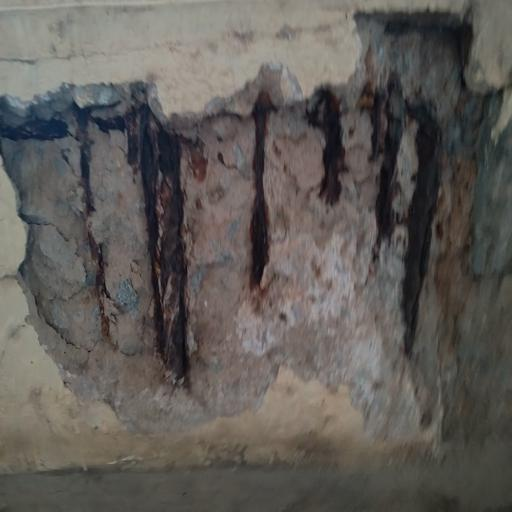spalling: (0, 9, 512, 457)
